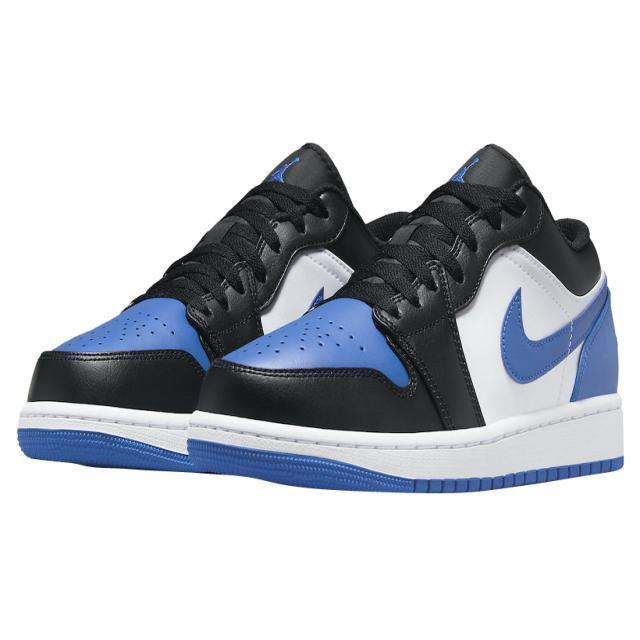nike original jordan 1: (183, 143, 630, 496), (13, 142, 424, 475)
